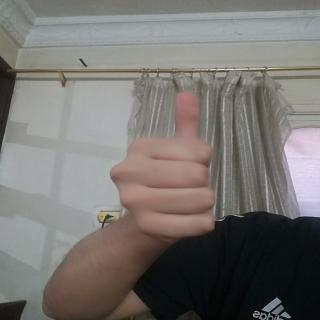ALIF: (102, 87, 236, 244)
